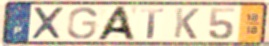5: (207, 7, 237, 41)
A: (93, 6, 138, 42)
G: (65, 6, 99, 40)
K: (172, 6, 201, 40)
T: (140, 7, 166, 40)
X: (30, 6, 66, 41)
